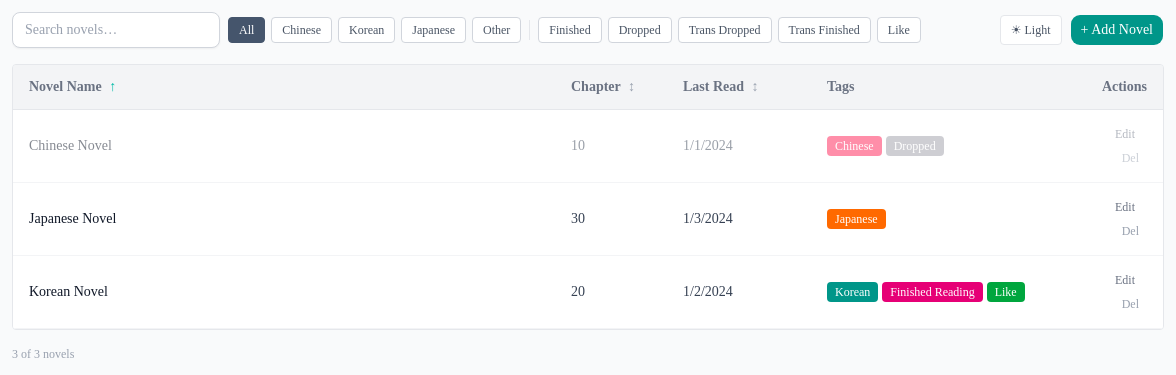
it: Clear all filters › shows Clear button when a status filter is active
Click the button "Finished" at (570, 30), box x1=538 y1=17 x2=602 y2=43
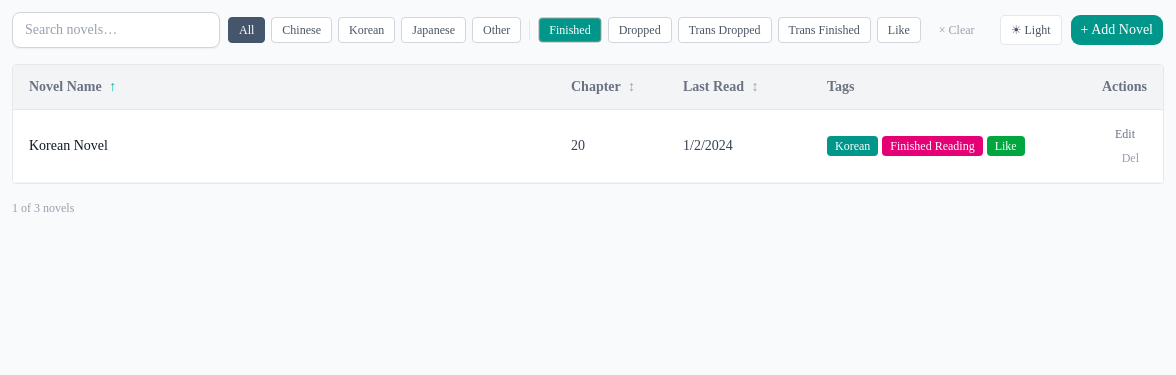
Result: the button "× Clear" is shown at x1=929 y1=18 x2=985 y2=42
